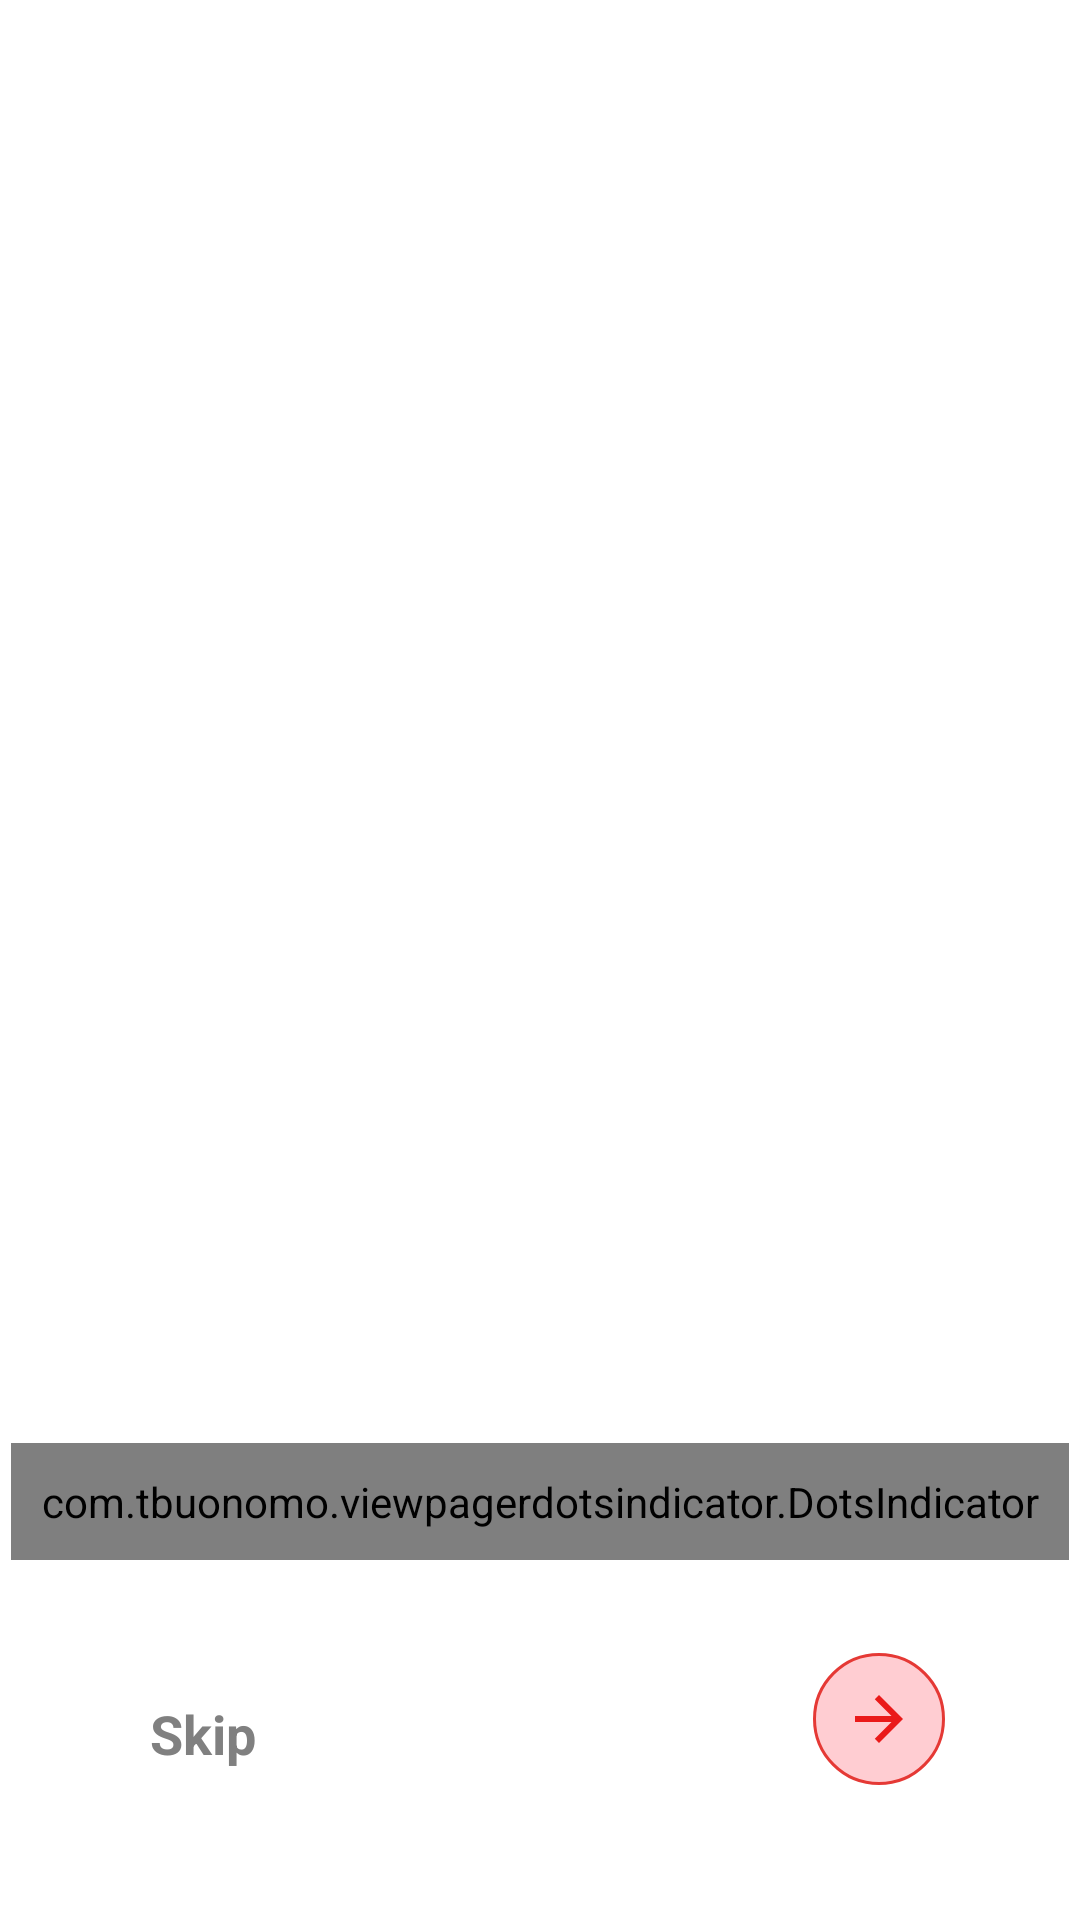

Icon bounding boxes for this 1080px×1920px phone screenshot, format (x1=x1, y1=y1, x2=x2, y2=y2):
arrow forward: (x1=813, y1=1653, x2=945, y2=1785)
